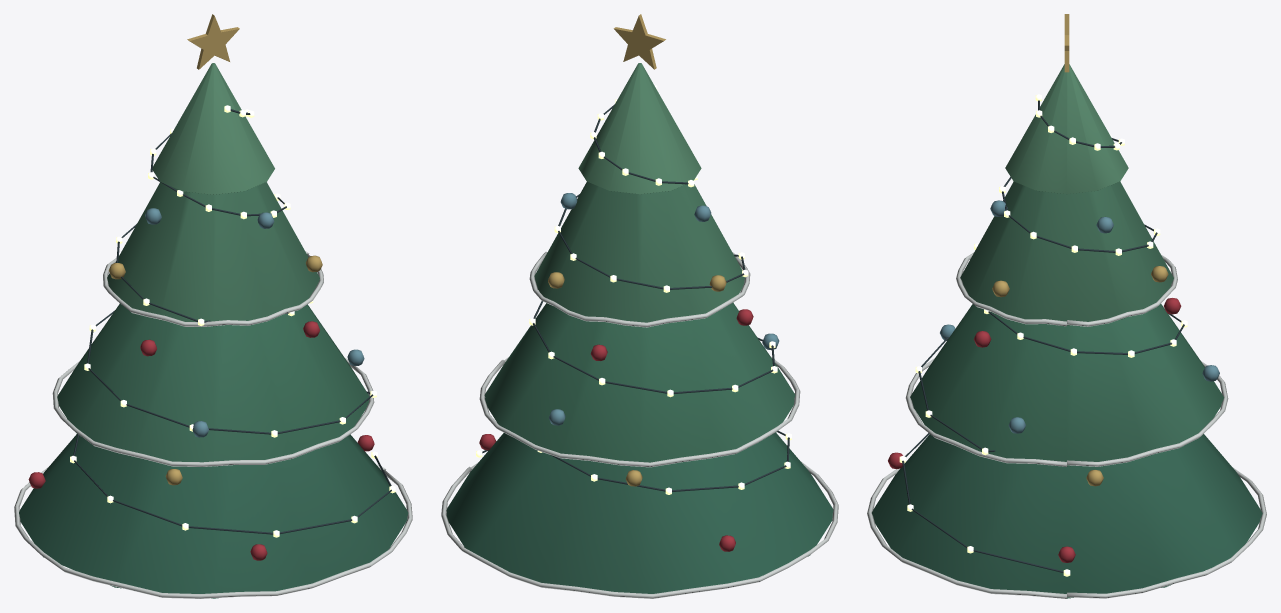
File: landmark_winter_tree_low.glb
3 renders of one model, left to right at view 1: azimuth 30°, elevation 25°; view 2: azimuth 150°, elevation 25°; view 3: azimuth 270°, elevation 25°, orthographic.
Bounding box in the file's own units: 5.17 × 8 × 5.17.
